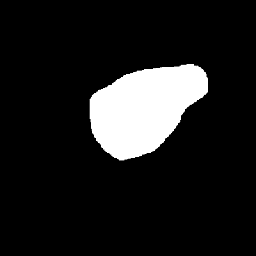mass: (107, 68, 203, 151)
